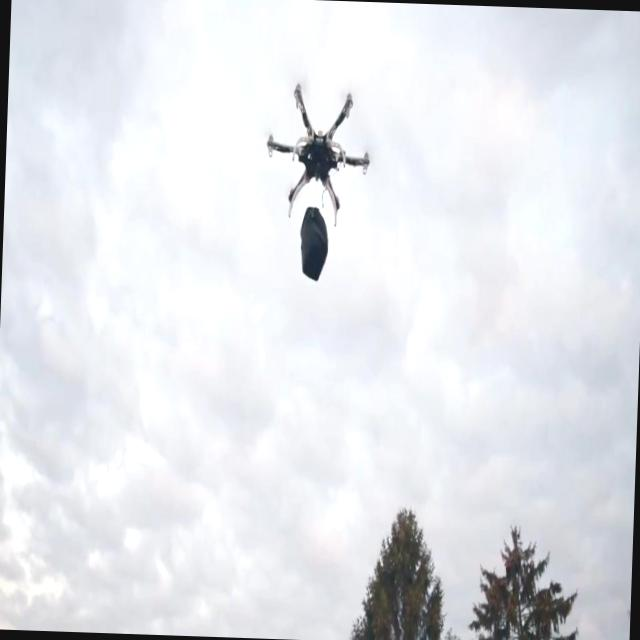drone: (262, 78, 372, 224)
